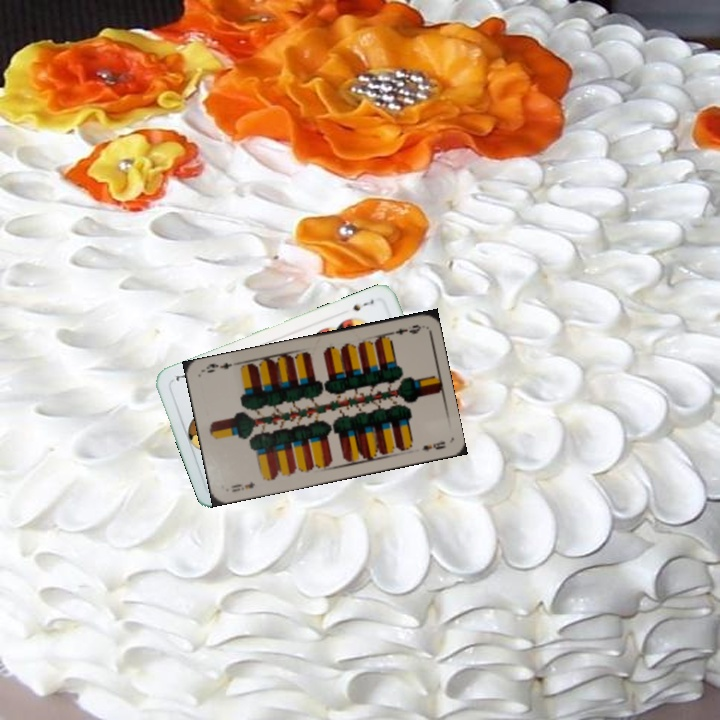E9: (384, 320, 424, 338), (227, 477, 257, 495)
S7: (348, 295, 376, 314)
